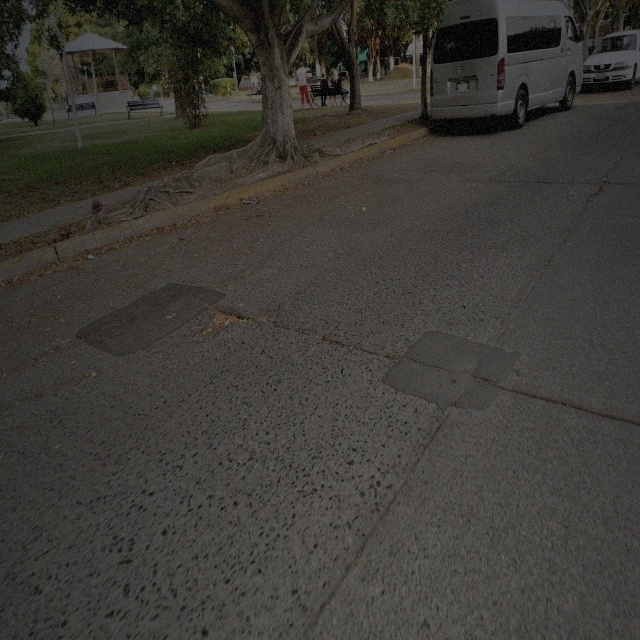pothole: (200, 299, 251, 342)
